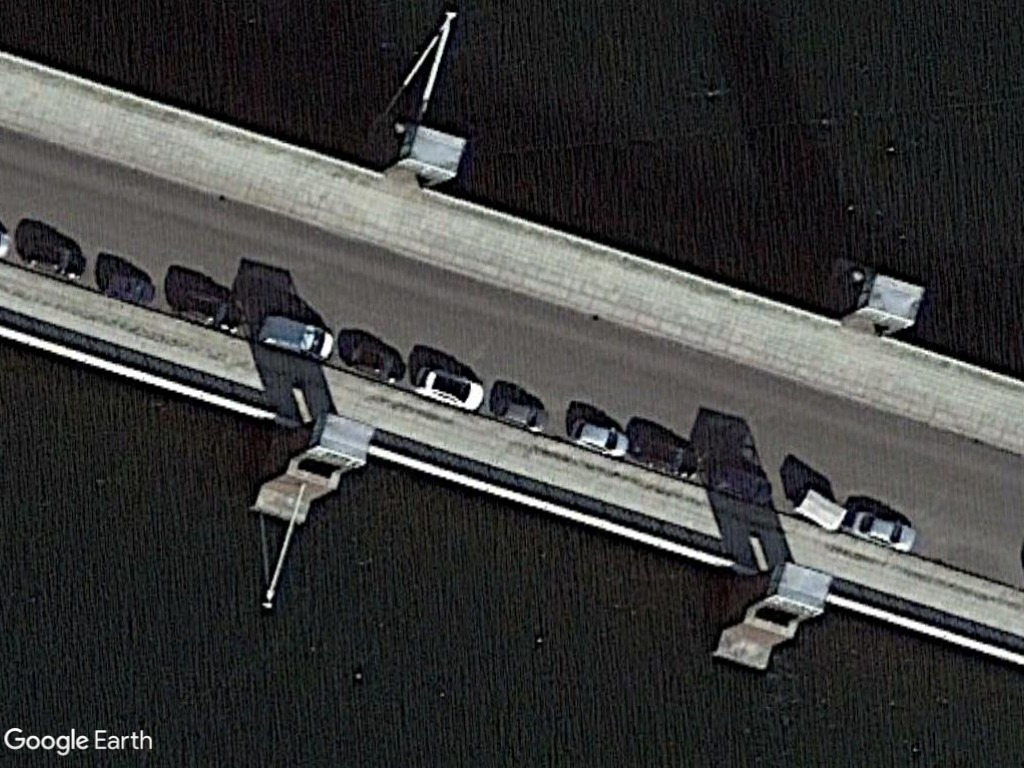car: (256, 305, 340, 369), (410, 360, 490, 416), (851, 505, 921, 557), (565, 415, 632, 460), (489, 390, 552, 437)
